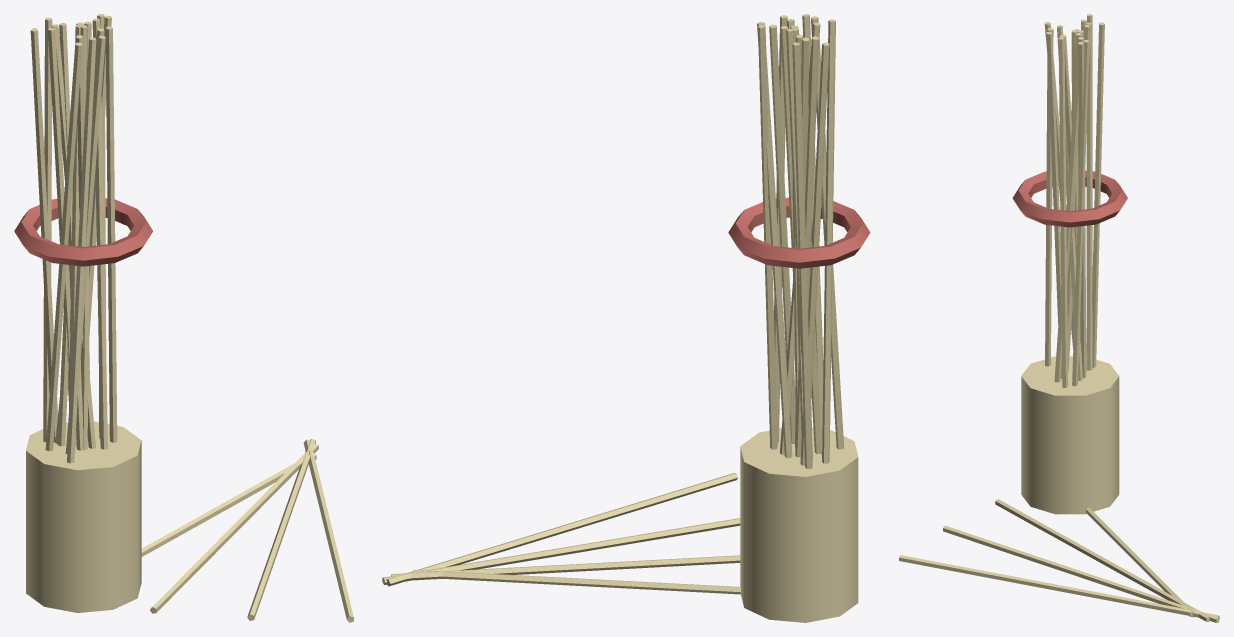
File: Bitingan_Bundle.fbx
3 views of the same model, side by side, from view 1: azimuth 30°, elevation 25°; view 2: azimuth 150°, elevation 25°; view 3: azimuth 270°, elevation 25° (orthographic). The views are drawn at different scales.
Visible parts, largest first — view 1: Bitingan_Bundle; view 2: Bitingan_Bundle; view 3: Bitingan_Bundle.
Part boxes in pixels (x1,y1,x2,y2): Bitingan_Bundle: (14, 14, 353, 622); Bitingan_Bundle: (382, 14, 870, 622); Bitingan_Bundle: (899, 14, 1219, 622).
Bounding box in the file's own units: 0.3344 × 0.47 × 0.2943.
